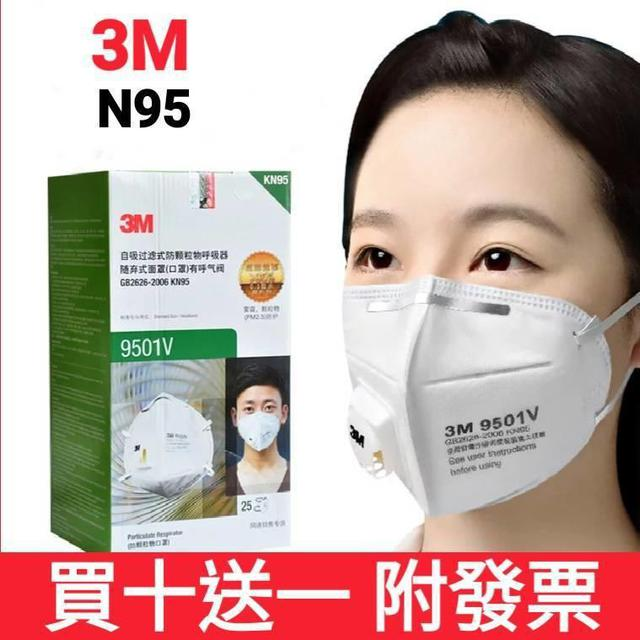mask: (334, 280, 610, 502)
